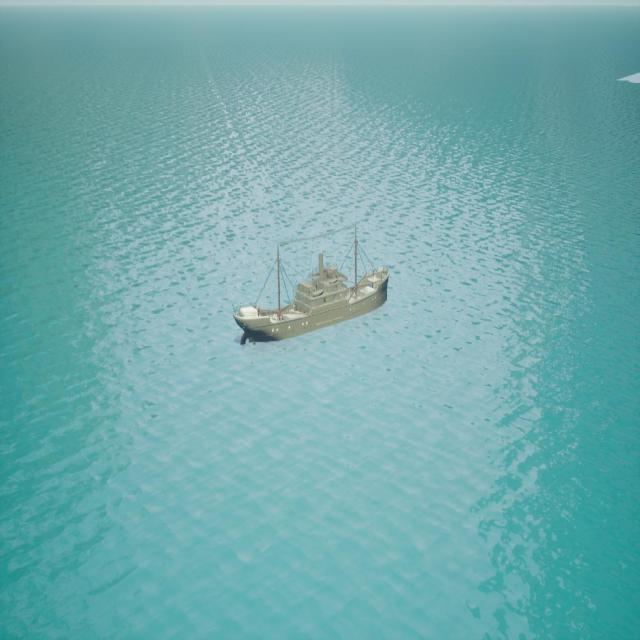fishing ship: (236, 242, 391, 346)
